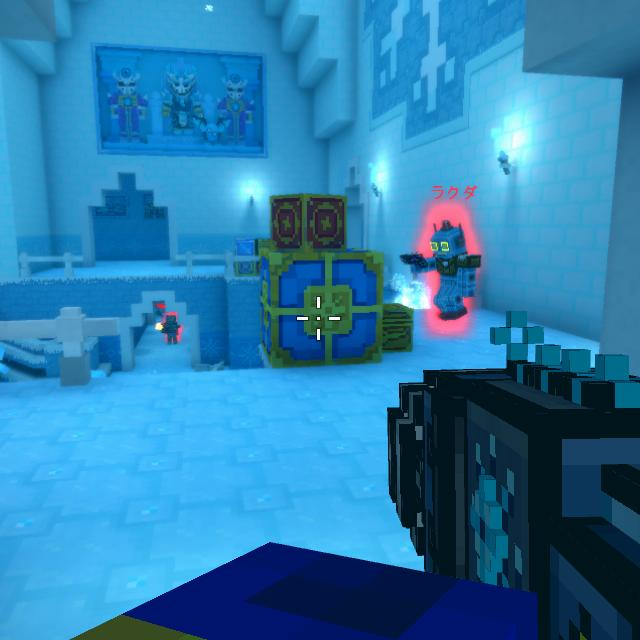Enemy: (411, 220, 482, 320)
